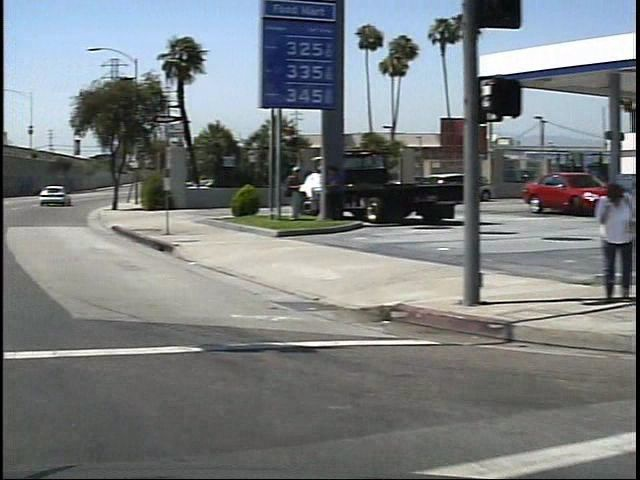person: (576, 176, 623, 302), (275, 166, 299, 228)
